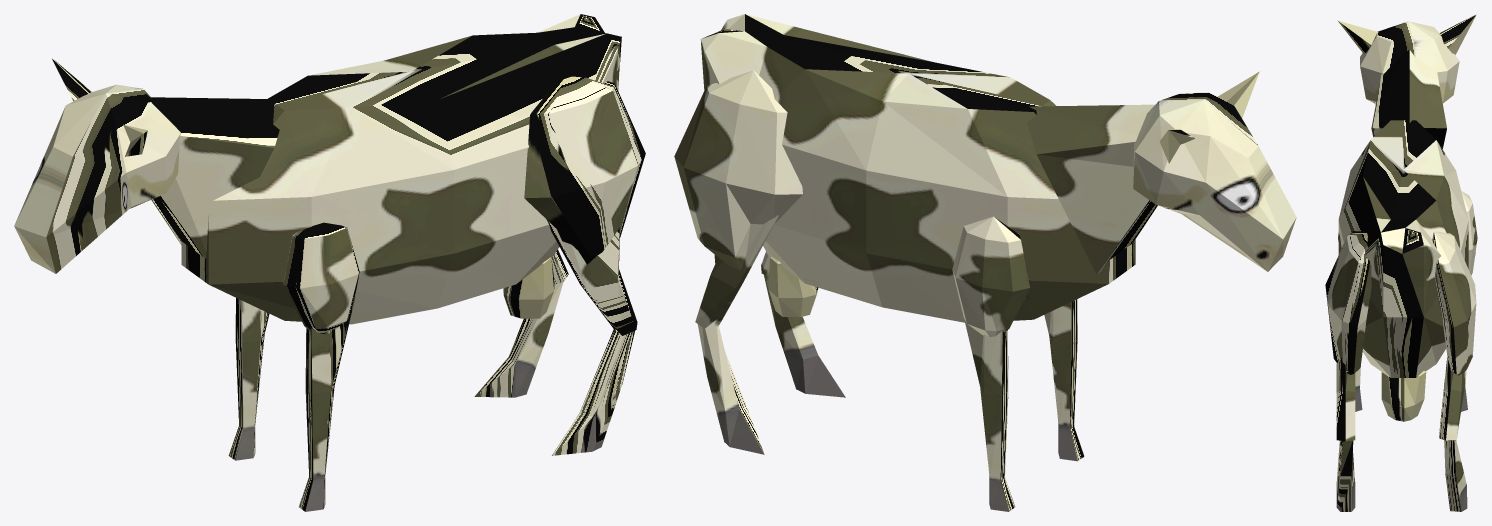
Rendered from Cow3.glb.
3 views of the same model, side by side, from view 1: azimuth 30°, elevation 25°; view 2: azimuth 150°, elevation 25°; view 3: azimuth 270°, elevation 25° (orthographic). The views are drawn at different scales.
Parts seen in each view (by area): view 1: Cow3; view 2: Cow3; view 3: Cow3.
Part boxes in pixels (<box>): Cow3: <box>14,14,645,511</box>; Cow3: <box>674,14,1296,511</box>; Cow3: <box>1325,14,1477,511</box>.
Size of the model in its own units: 160 by 112 by 47.16.
Materials: 1 (1 with a texture image).
